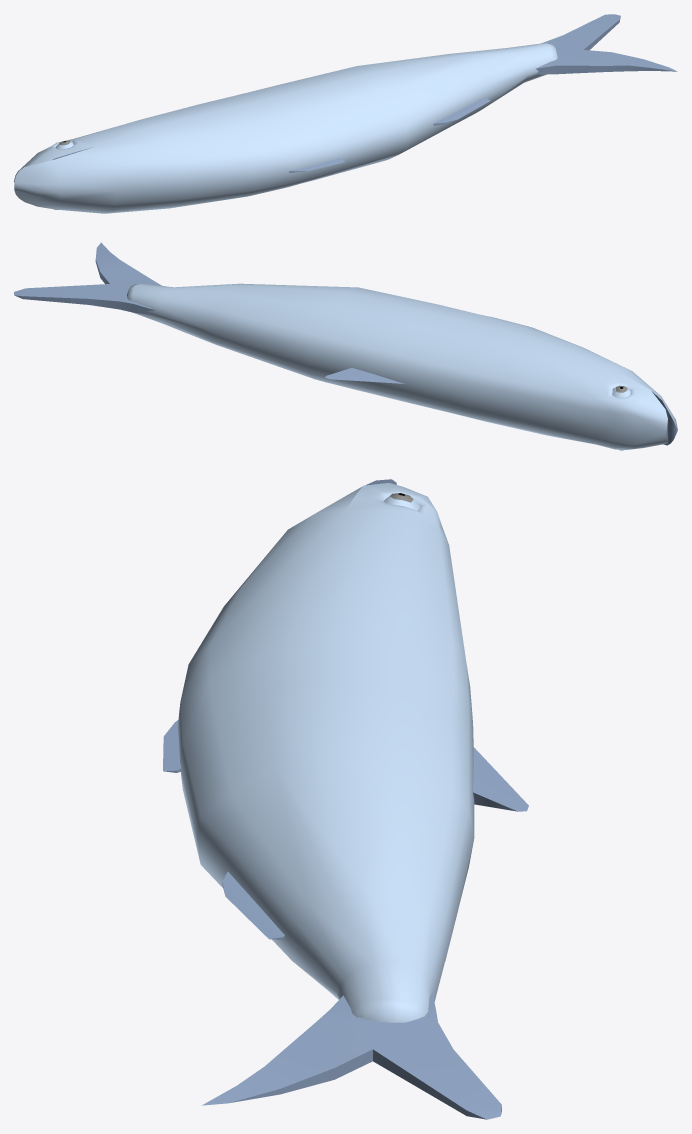
File: Sardina.fbx
The picture shows the model from 3 angles, top to bottom: view 1: azimuth 30°, elevation 25°; view 2: azimuth 150°, elevation 25°; view 3: azimuth 270°, elevation 25°; orthographic projection. The views are drawn at different scales.
Parts seen in each view (by area): view 1: Sardina; view 2: Sardina; view 3: Sardina.
Part boxes in pixels (<box>): Sardina: <box>14,14,677,213</box>; Sardina: <box>14,242,677,450</box>; Sardina: <box>163,479,528,1119</box>.
Size of the model in its own units: 29.25 by 3.62 by 7.36.
